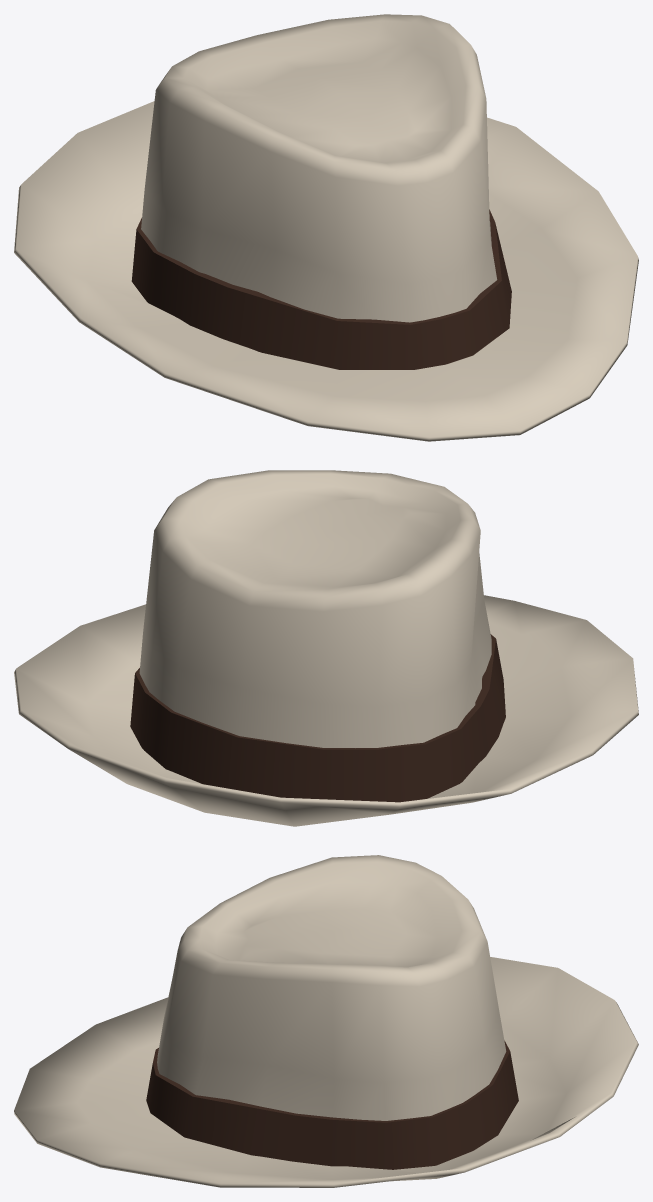
The model's file is sweethome3d-scopia-hat.glb.
3 renders of one model, top to bottom at view 1: azimuth 30°, elevation 25°; view 2: azimuth 150°, elevation 25°; view 3: azimuth 270°, elevation 25°, orthographic. The views are drawn at different scales.
Parts seen in each view (by area): view 1: chapeau_Plane, strip_Plane.001; view 2: chapeau_Plane, strip_Plane.001; view 3: chapeau_Plane, strip_Plane.001.
Boxes of the visible parts, x1=… form: chapeau_Plane: x1=14, y1=14, x2=638, y2=441; strip_Plane.001: x1=131, y1=209, x2=511, y2=369; chapeau_Plane: x1=14, y1=470, x2=638, y2=826; strip_Plane.001: x1=130, y1=634, x2=505, y2=802; chapeau_Plane: x1=14, y1=855, x2=638, y2=1187; strip_Plane.001: x1=146, y1=1040, x2=518, y2=1169.
Bounding box in the file's own units: 36.1 × 15.05 × 42.42.
